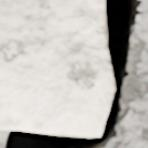brick: (0, 0, 114, 136)
crack: (0, 0, 147, 147)
